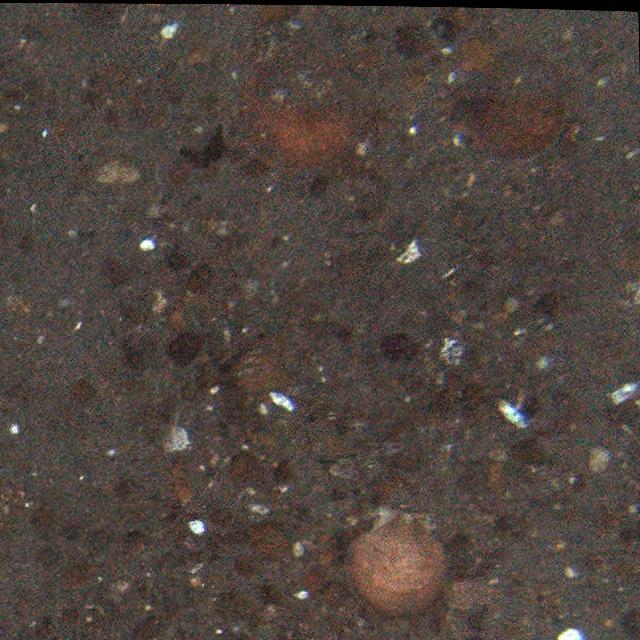scallop: (349, 502, 452, 616)
